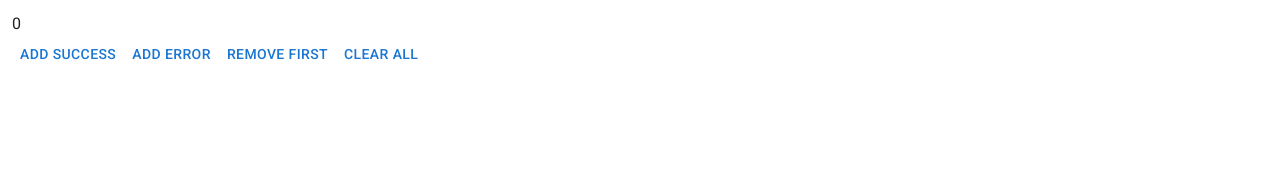
NotificationProvider › adds notifications
Click the button "Add Success" at (68, 54), box x1=12 y1=36 x2=124 y2=72
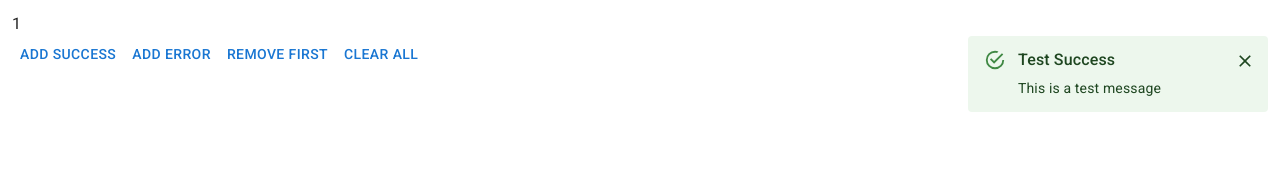
Expected: the text with test id "notification-count" reads "1", x1=12 y1=14 x2=21 y2=33
Expected: the text "Test Success" is shown, x1=1018 y1=50 x2=1115 y2=69
Expected: the text "This is a test message" is shown, x1=1018 y1=80 x2=1161 y2=96
